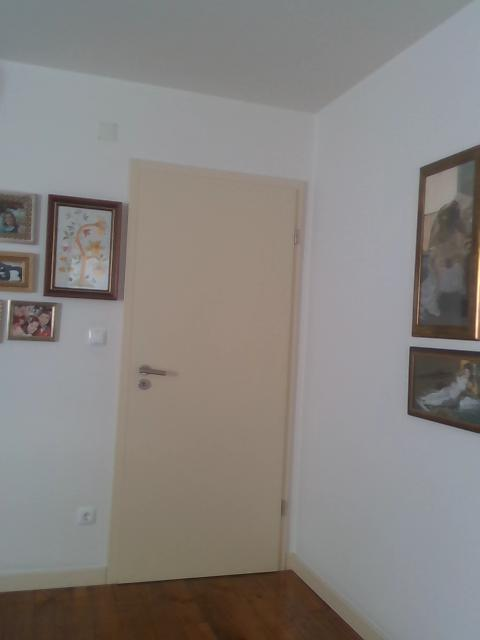door: (103, 182, 298, 579)
